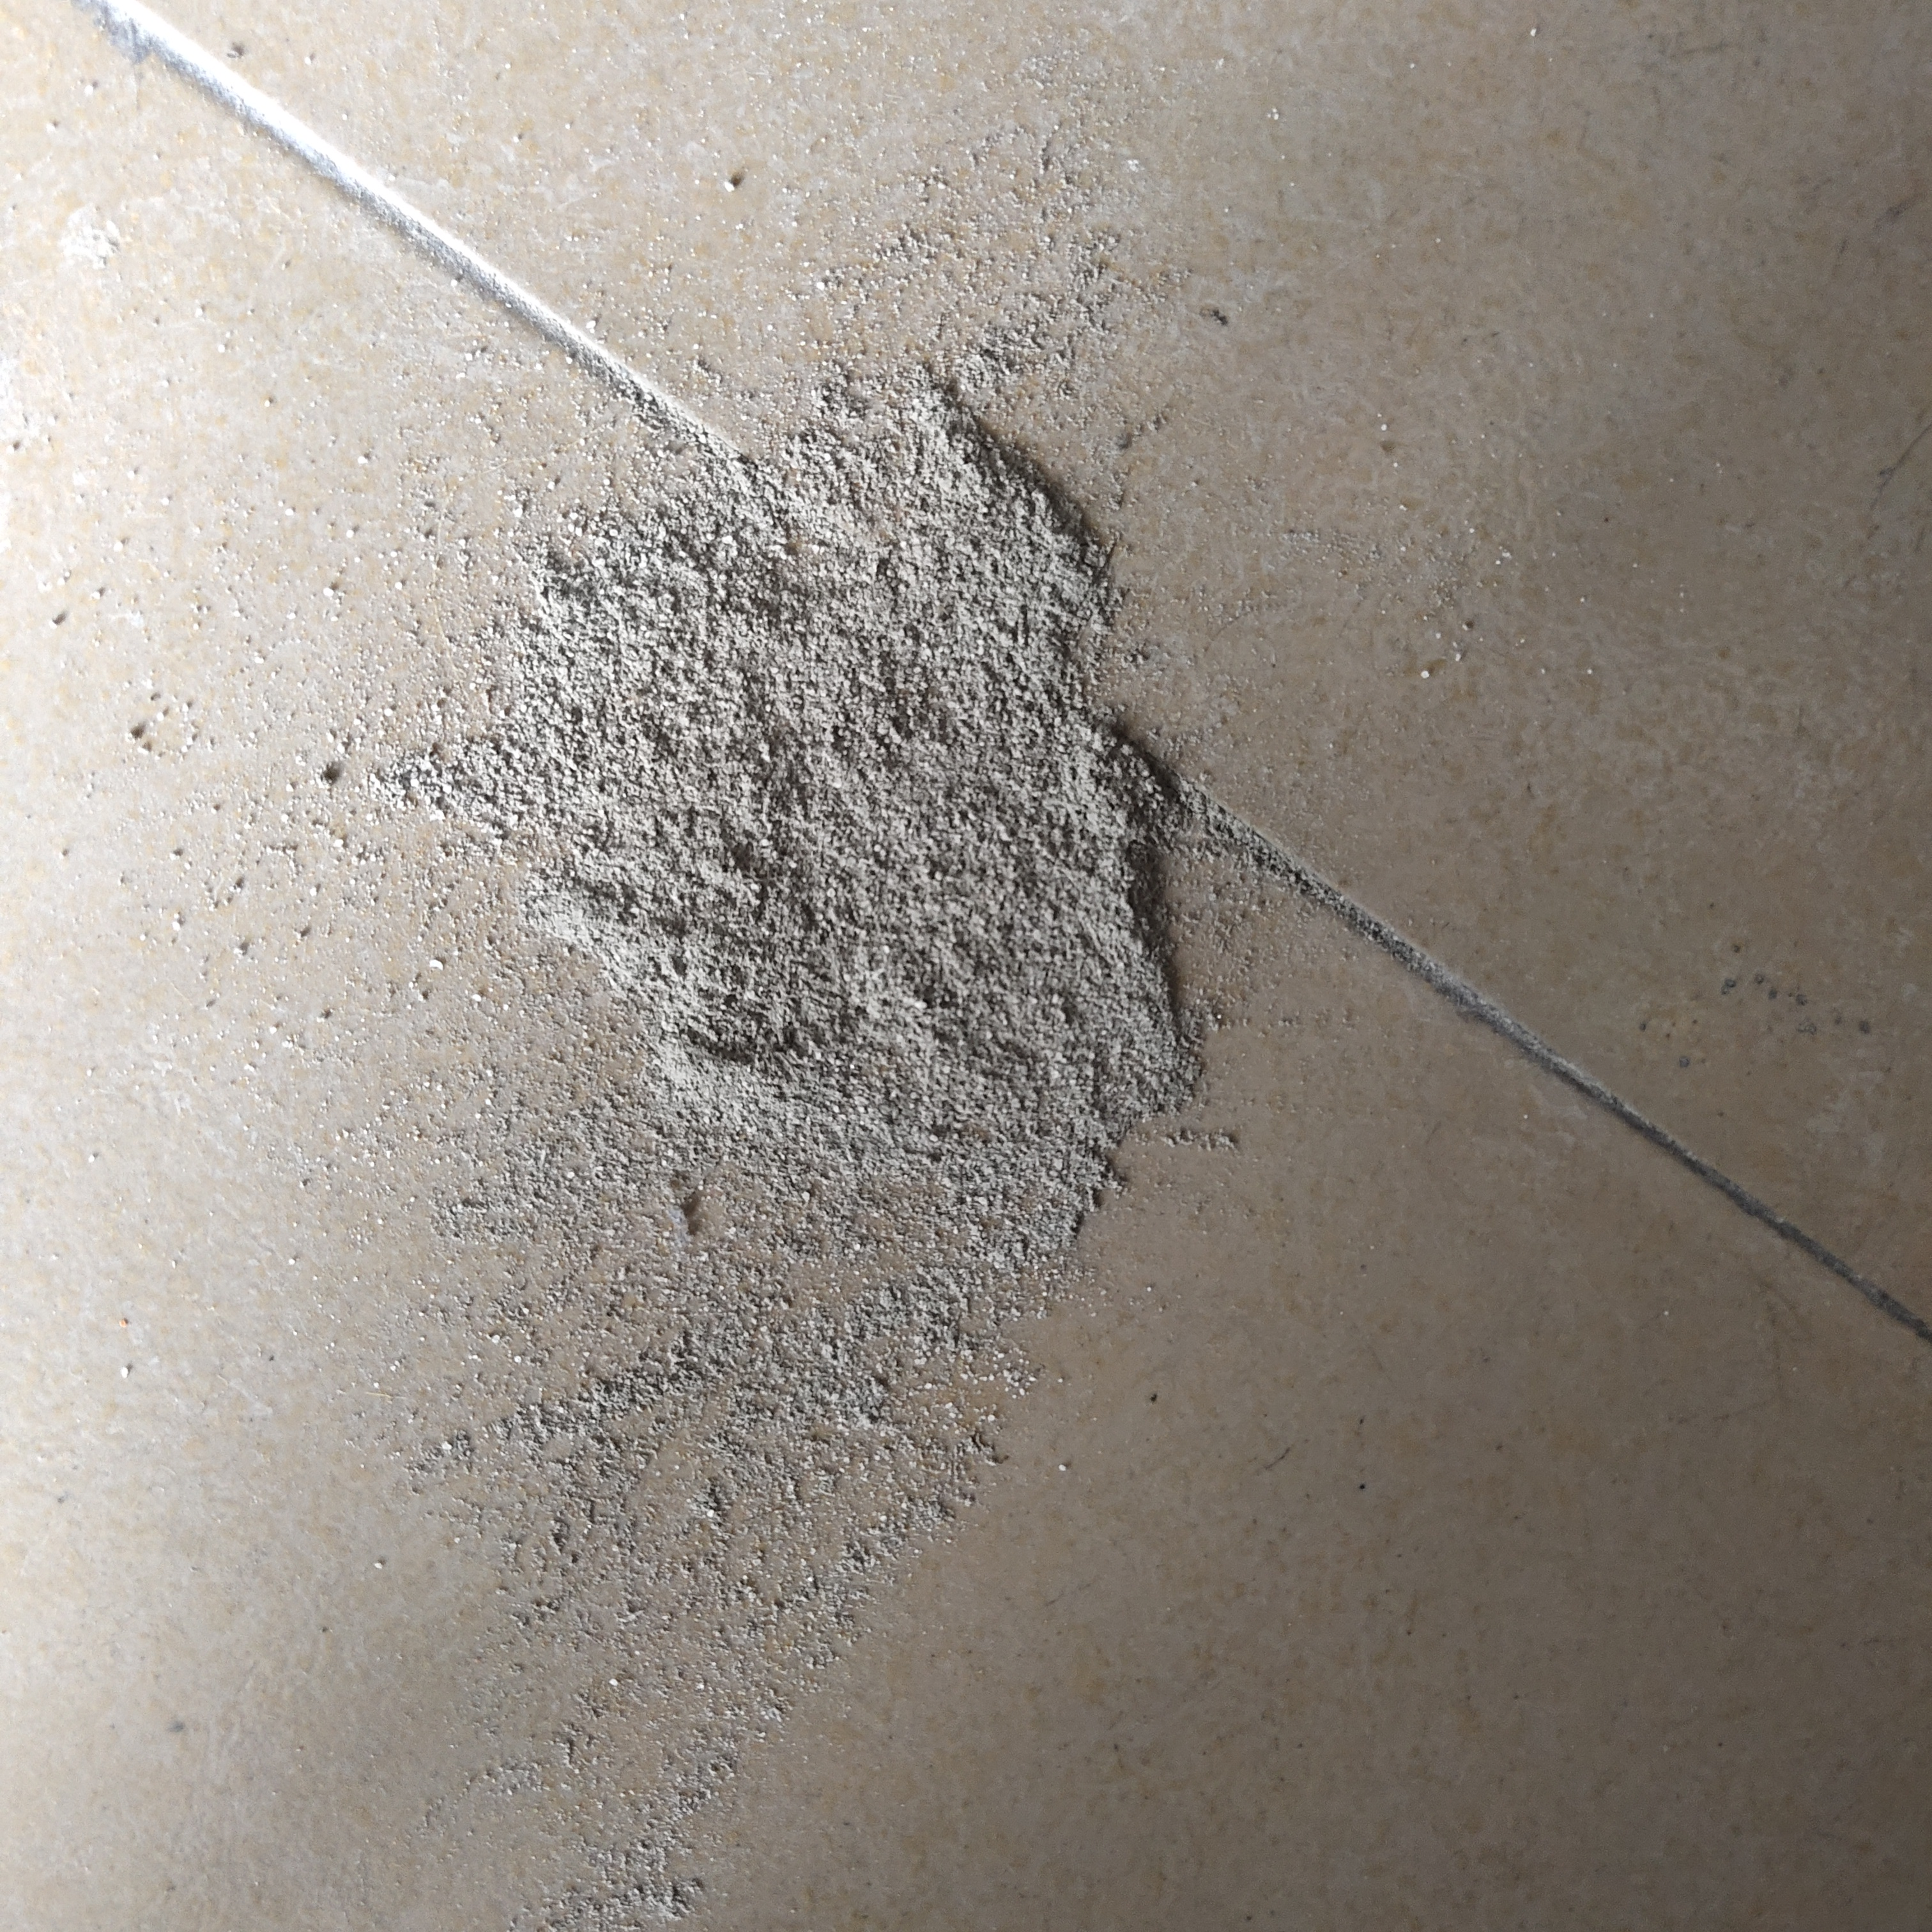ash pile: (113, 133, 1290, 1932)
